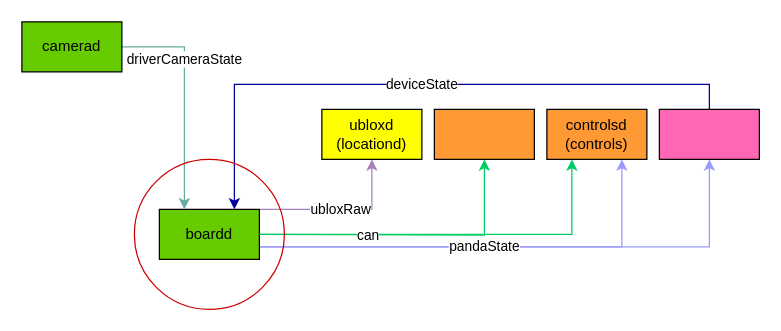
The diagram is 781 pixels wide and 331 high, and some of its shapes have lost their labels. The centre of each missing label's shape, as x and y in pixels:
radard (controls): (x=483, y=133)
thermald: (x=708, y=133)
